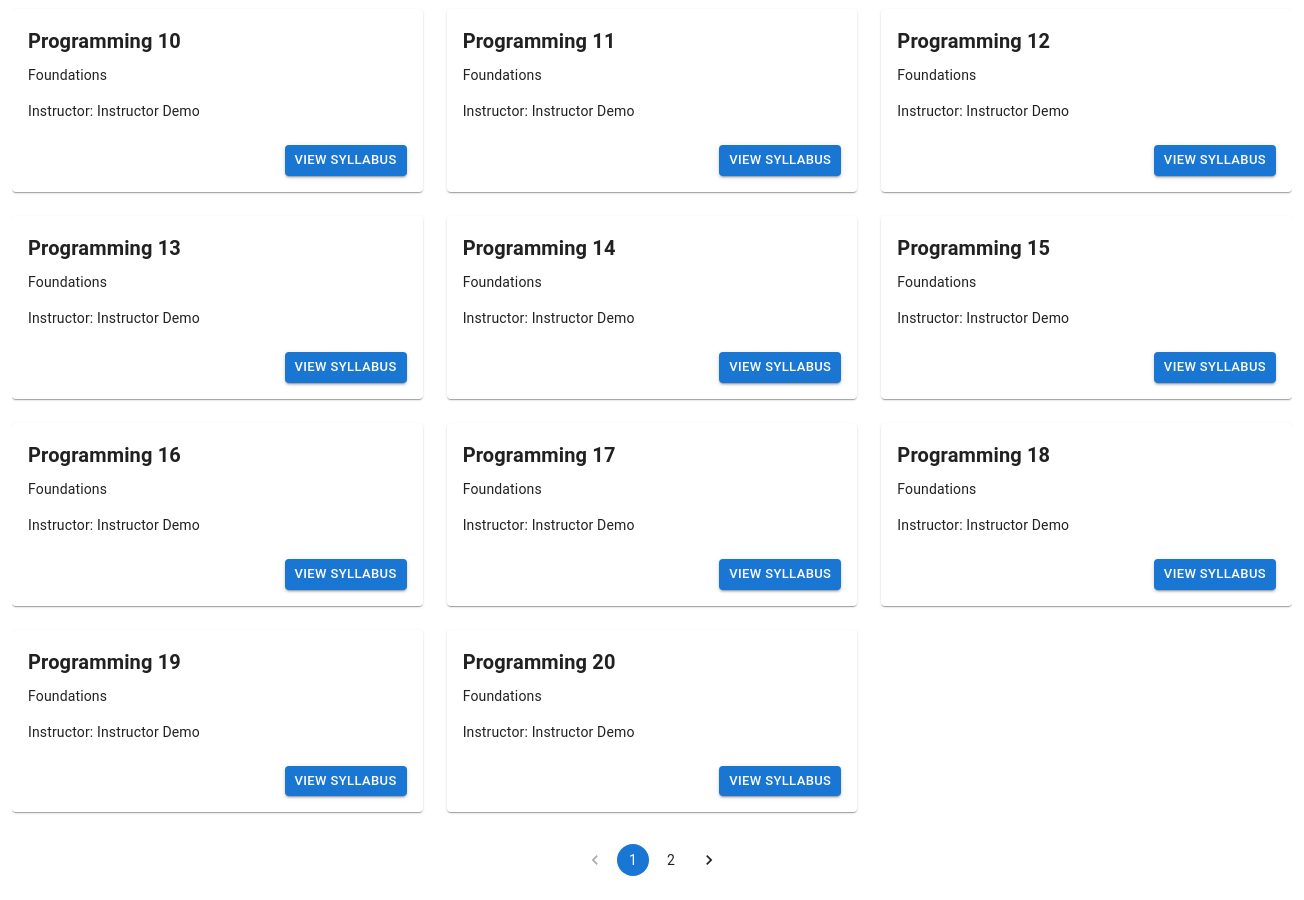
Test case: retries a failed catalogue recovery on the corrected page
(page scrolled)
Click the button named "Go to page 2" at [671, 860], box [655,844,687,876]
(page scrolled)
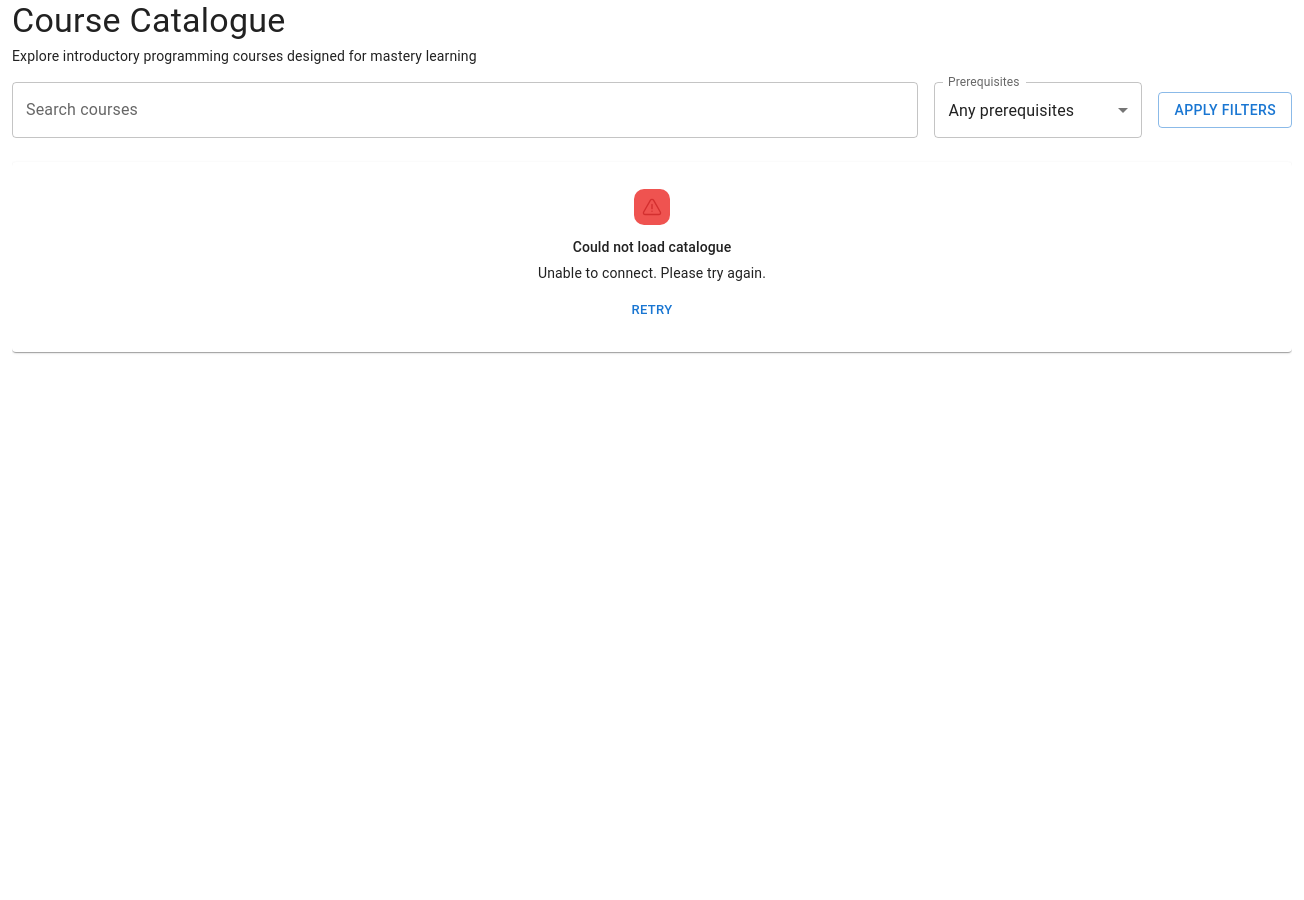
Check: the text "Could not load catalogue" is shown, box [573,237,731,259]
Click the button "Retry" at [652, 310], box [620,295,684,325]
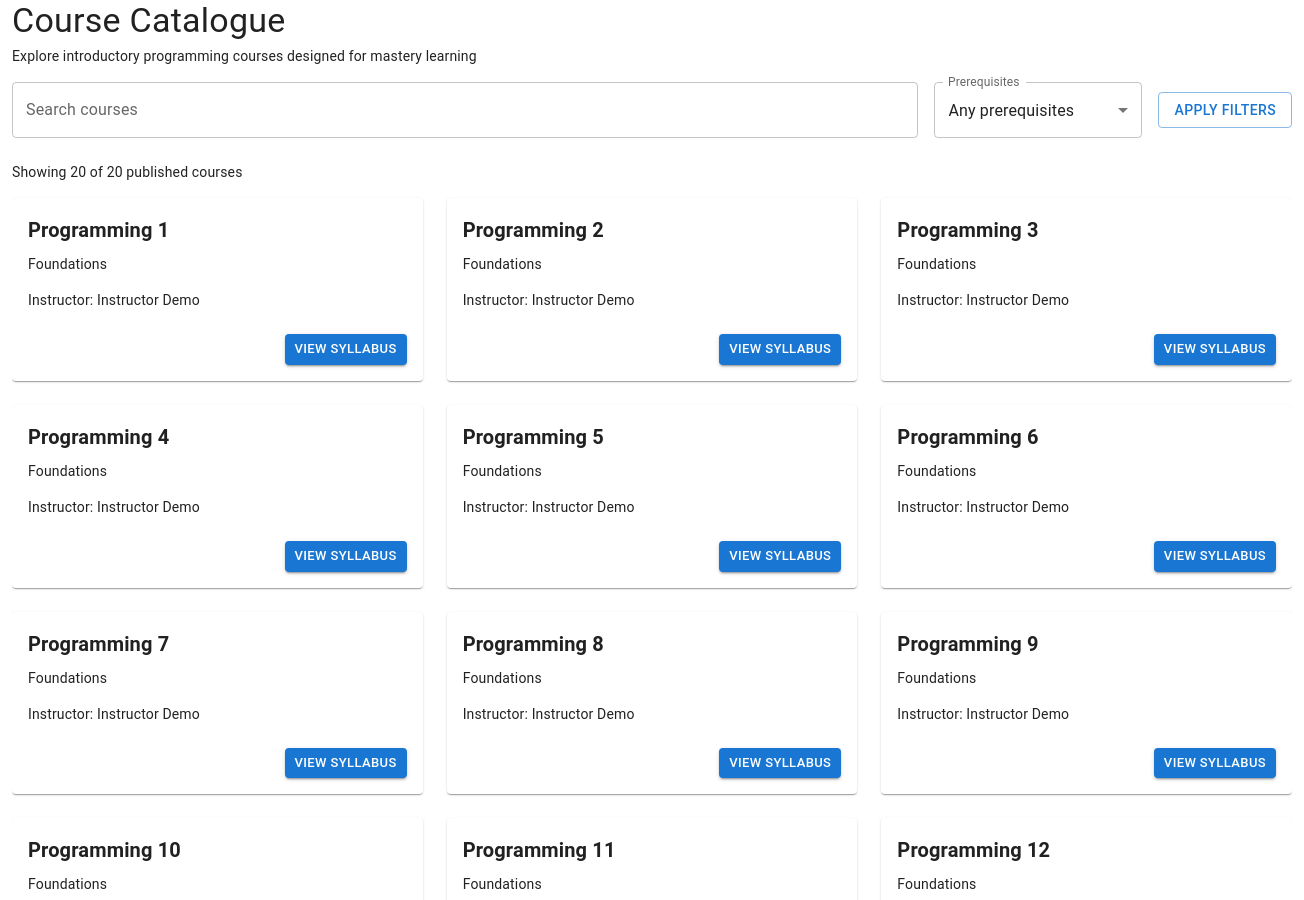
Check: the text "Showing 20 of 20" is shown, box [12,164,242,180]
